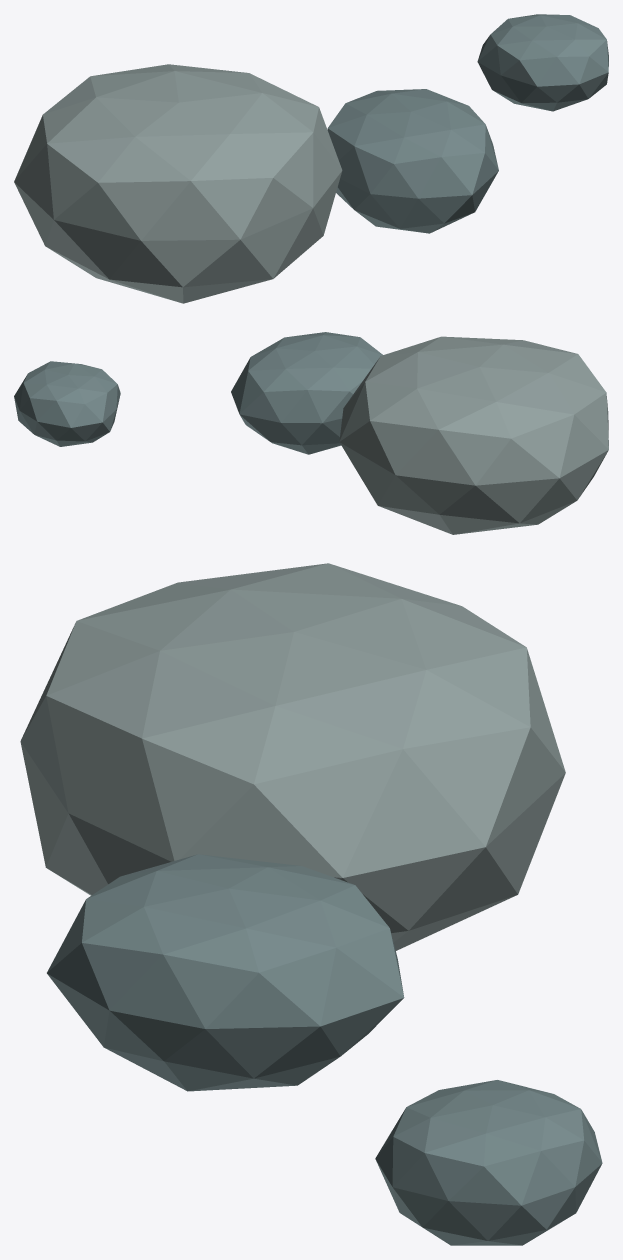
The model's file is prop_uw_rocks_c.glb.
The picture shows the model from 3 angles, top to bottom: view 1: azimuth 30°, elevation 25°; view 2: azimuth 150°, elevation 25°; view 3: azimuth 270°, elevation 25°; orthographic projection. The views are drawn at different scales.
Parts seen in each view (by area): view 1: uwrkc_0, uwrkc_1, uwrkc_2; view 2: uwrkc_0, uwrkc_1, uwrkc_2; view 3: uwrkc_0, uwrkc_1, uwrkc_2.
Part boxes in pixels (box(x1,y1,x2,y2)): uwrkc_0: box(14, 64, 342, 303); uwrkc_1: box(327, 89, 498, 233); uwrkc_2: box(477, 14, 608, 111); uwrkc_0: box(339, 336, 608, 534); uwrkc_1: box(231, 332, 382, 454); uwrkc_2: box(14, 361, 120, 446); uwrkc_0: box(20, 563, 565, 950); uwrkc_1: box(47, 854, 404, 1091); uwrkc_2: box(375, 1080, 602, 1245).
Size of the model in its own units: 0.6984 by 0.1912 by 0.3343.
